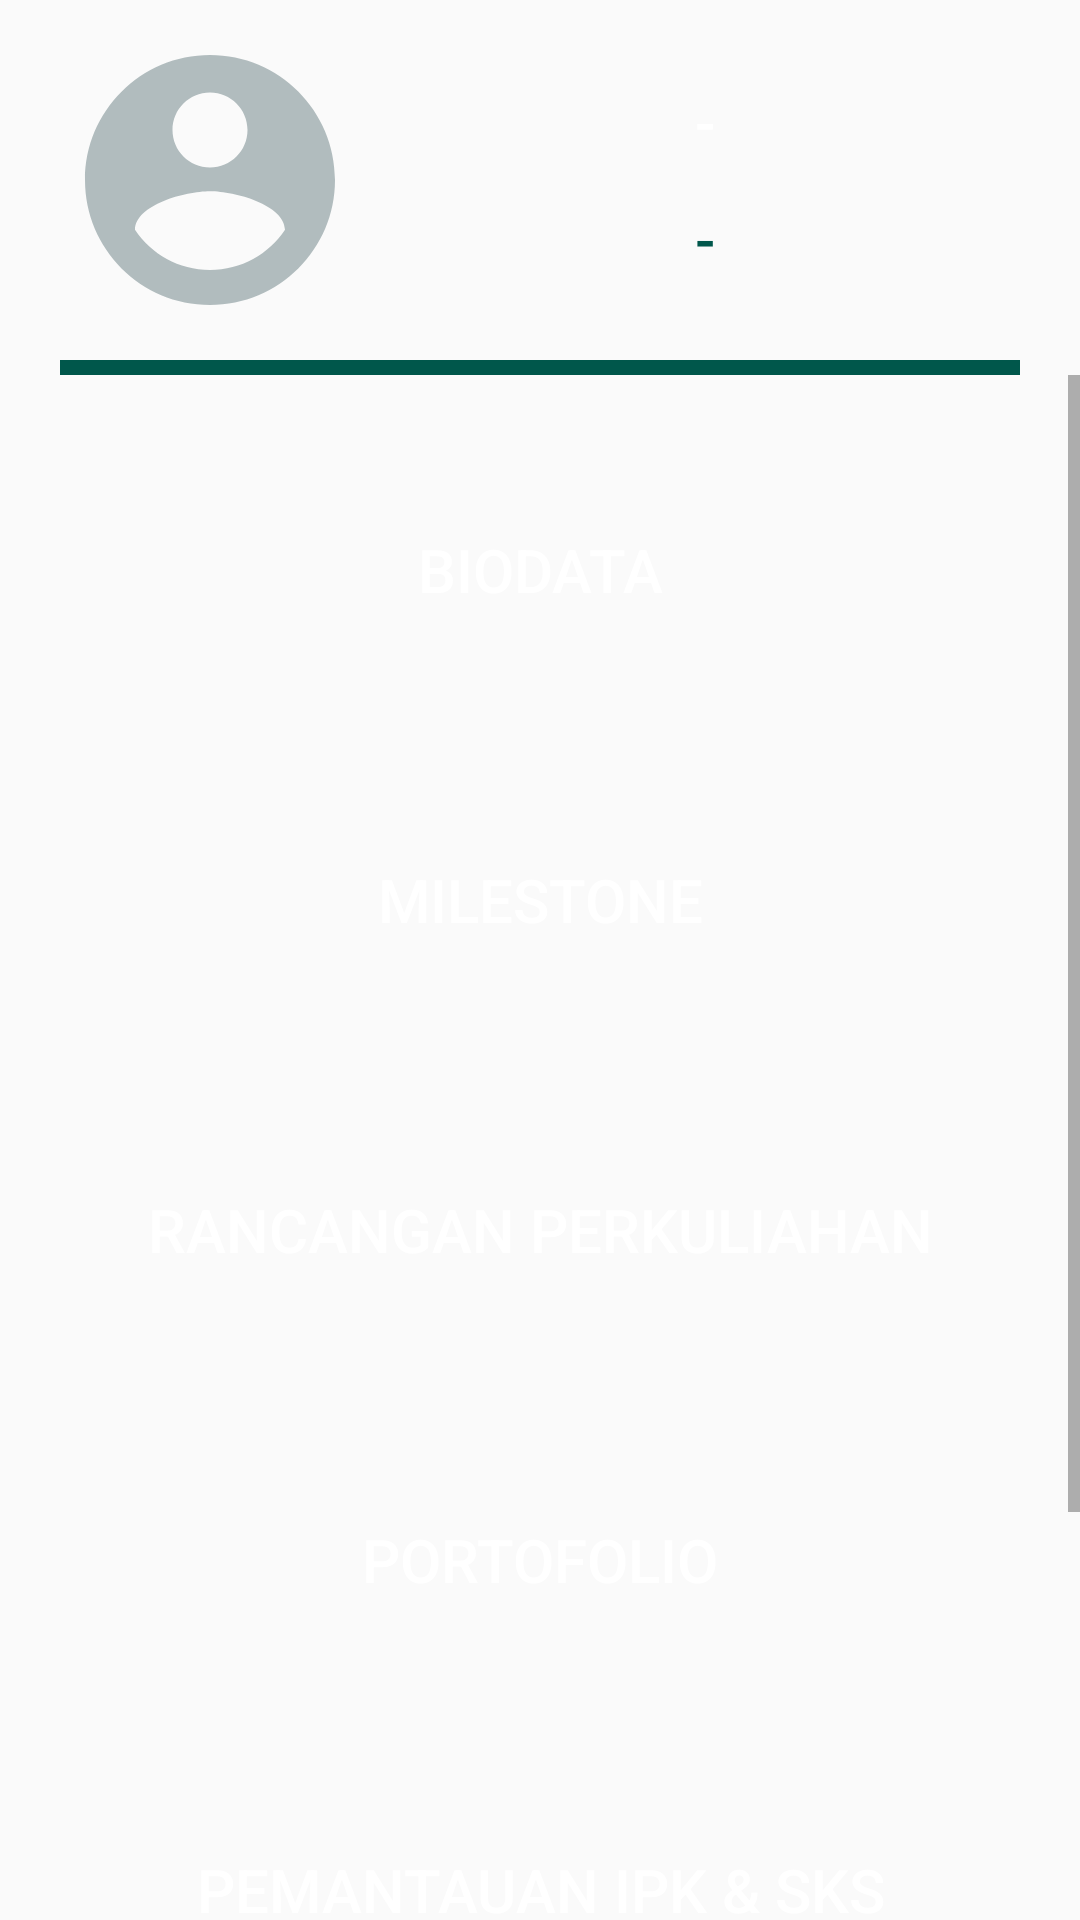

Icons on this 1080px x 1920px Android screen, each with its box as [x1=x1, y1=y1, x2=x2, y2=y2]:
account circle: [x1=85, y1=55, x2=335, y2=305]
